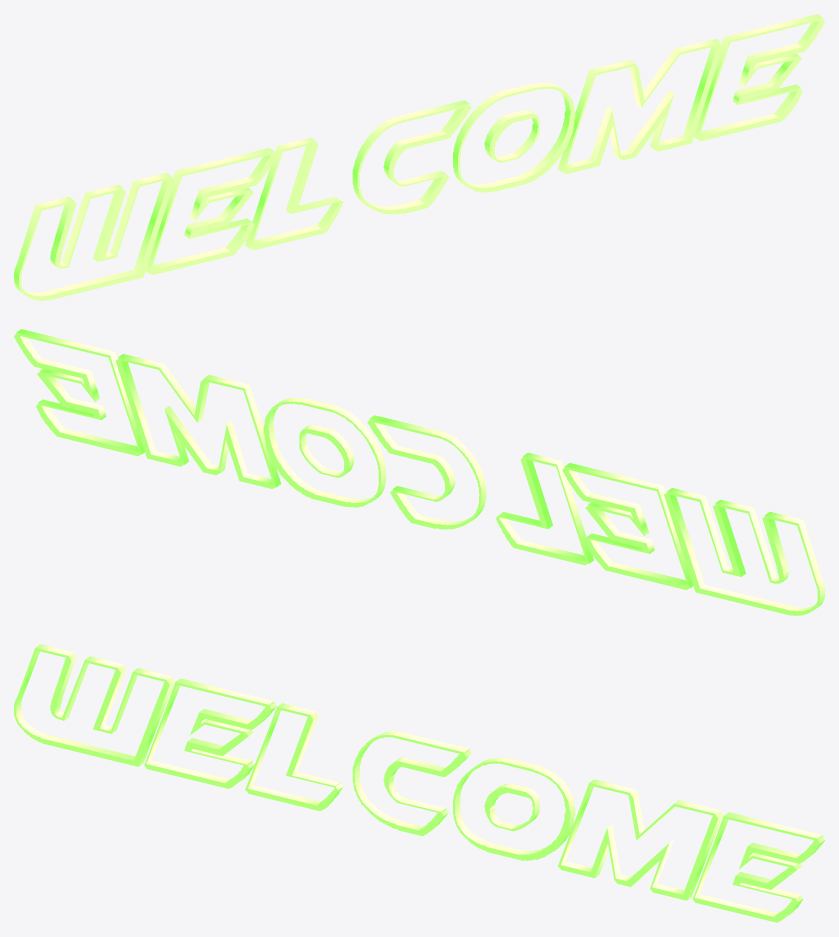
File: welcome-transformed.glb
3 renders of one model, top to bottom at view 1: azimuth 30°, elevation 25°; view 2: azimuth 150°, elevation 25°; view 3: azimuth 330°, elevation 25°, orthographic.
Visible parts, largest first — view 1: Text_0; view 2: Text_0; view 3: Text_0.
Boxes of the visible parts, x1,y1,x2,y2 form: Text_0: (14, 14, 824, 300); Text_0: (14, 329, 824, 615); Text_0: (14, 644, 824, 922).
Size of the model in its own units: 5.67 by 0.632 by 0.061.
